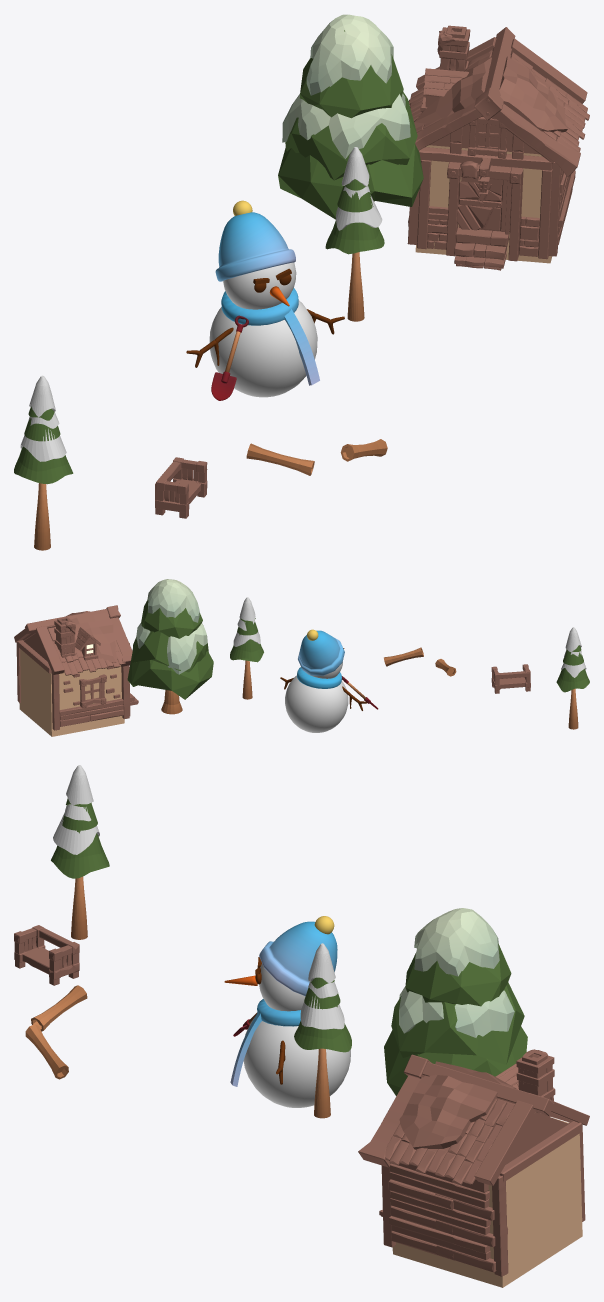
File: EniviromentGameJam02.fbx
3 renders of one model, top to bottom at view 1: azimuth 30°, elevation 25°; view 2: azimuth 150°, elevation 25°; view 3: azimuth 270°, elevation 25°, orthographic. The views are drawn at different scales.
Visible parts, largest first — view 1: pCube238.001, Circle.058, Sphere.011, Circle.039, Circle.046, pCube241.001, Shovel, Circle.004; view 2: pCube238.001, Circle.058, Sphere.011, Circle.039, Circle.046, pCube241.001, Circle.025; view 3: pCube238.001, Circle.058, Sphere.011, Circle.046, Circle.039, pCube241.001, Circle.004, Circle.025.
Boxes of the visible parts, left/top/right/bottom form: pCube238.001: left=407, top=25, right=589, bottom=270; Circle.058: left=278, top=14, right=423, bottom=219; Sphere.011: left=186, top=200, right=344, bottom=397; Circle.039: left=325, top=147, right=384, bottom=321; Circle.046: left=14, top=375, right=73, bottom=550; pCube241.001: left=155, top=457, right=207, bottom=518; Shovel: left=211, top=315, right=248, bottom=400; Circle.004: left=246, top=443, right=314, bottom=475; pCube238.001: left=14, top=605, right=138, bottom=736; Circle.058: left=127, top=579, right=213, bottom=714; Sphere.011: left=280, top=629, right=367, bottom=732; Circle.039: left=230, top=597, right=263, bottom=699; Circle.046: left=556, top=627, right=589, bottom=729; pCube241.001: left=491, top=664, right=530, bottom=693; Circle.025: left=384, top=647, right=423, bottom=666; pCube238.001: left=358, top=1049, right=589, bottom=1287; Circle.058: left=384, top=908, right=527, bottom=1096; Sphere.011: left=224, top=916, right=350, bottom=1107; Circle.046: left=51, top=765, right=109, bottom=939; Circle.039: left=294, top=943, right=351, bottom=1118; pCube241.001: left=14, top=925, right=79, bottom=985; Circle.004: left=31, top=985, right=87, bottom=1031; Circle.025: left=25, top=1024, right=68, bottom=1079.
Bounding box in the file's own units: 70082 × 23716 × 45115.
9 materials, 1 textured.
